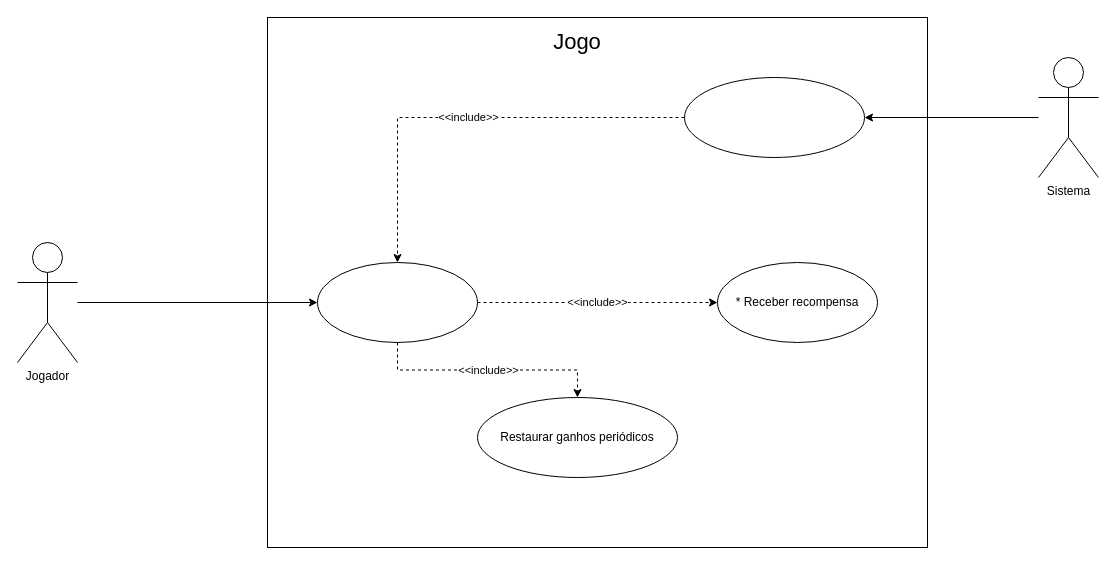
Some shapes in this 1116 by 565 pixel diagram are drawn without their labels. The shapes that lost their labels are listed below. From the top down, each one's centre as x and y in pixels, then its label:
(x=774, y=117): Gerar inimigos
(x=397, y=302): Derrotar todos os inimigos
